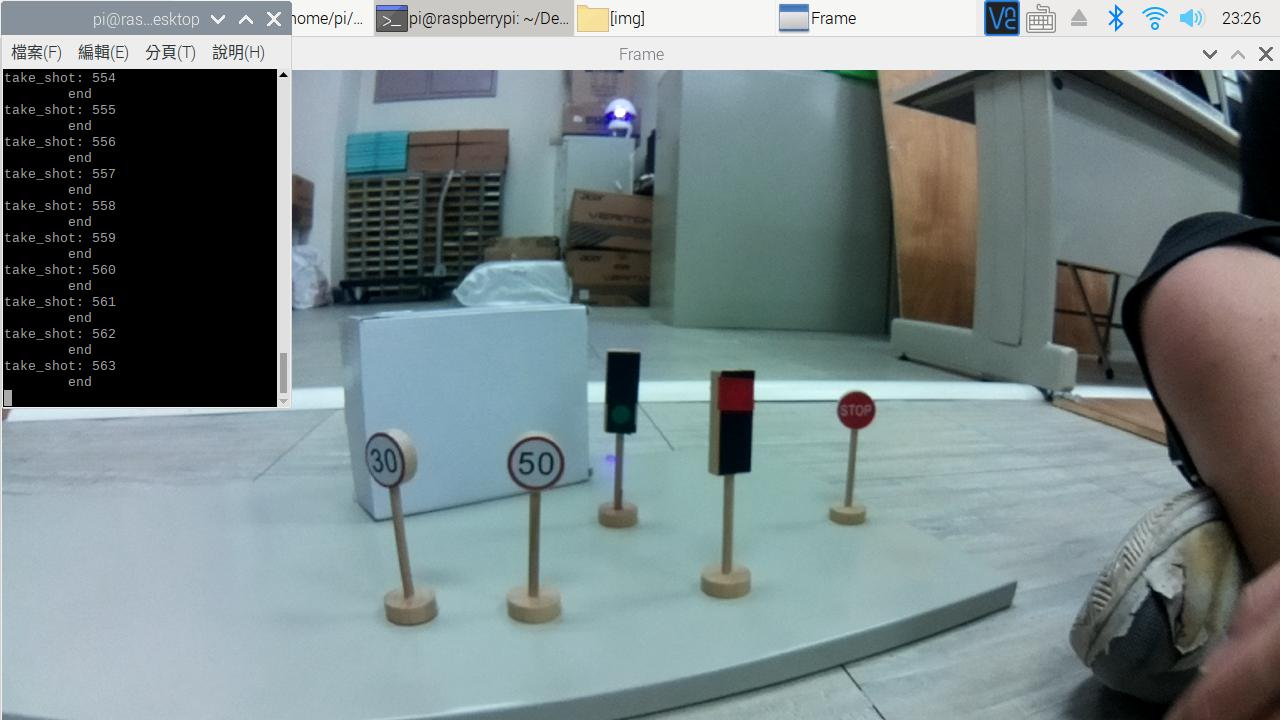Green: (592, 343, 653, 446)
Red: (692, 367, 768, 493)
Speed30: (364, 422, 431, 490)
Speed50: (494, 425, 566, 494)
Stop: (831, 378, 885, 440)
